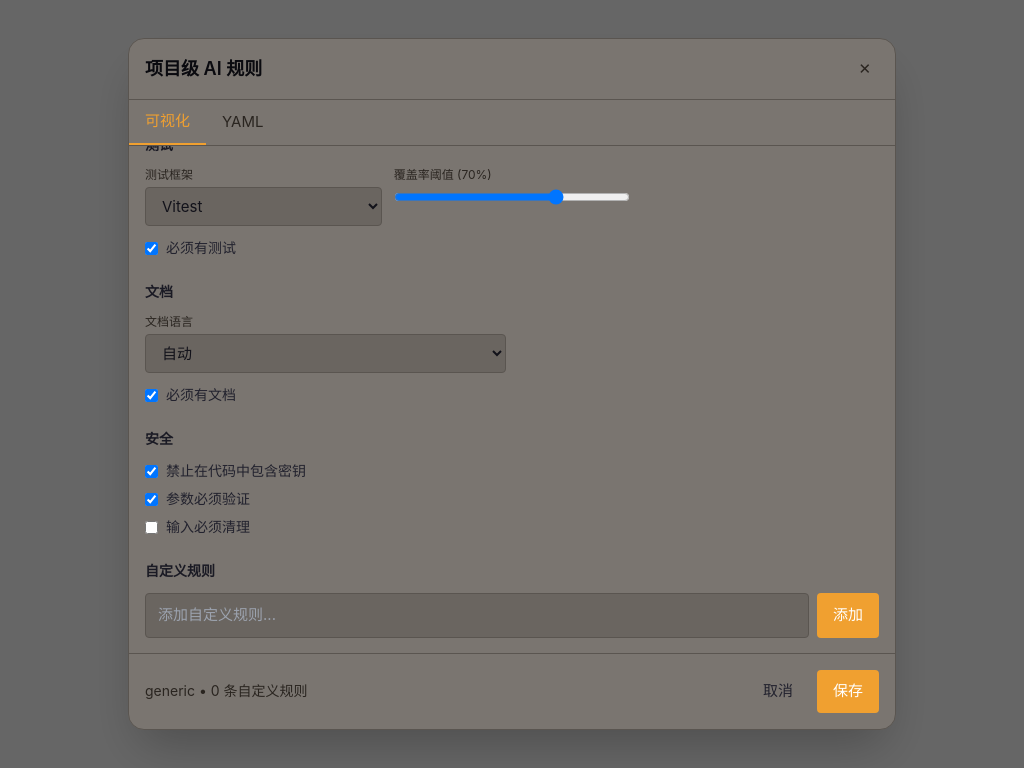
Test case: RulesEditor 组件 (Cycle 18 G18-02) › 应该添加自定义规则
The image size is (1024, 768).
(page scrolled)
Type "新规则 1" into the field with test id "custom-rule-input" at (477, 616), box [145,593,809,638]
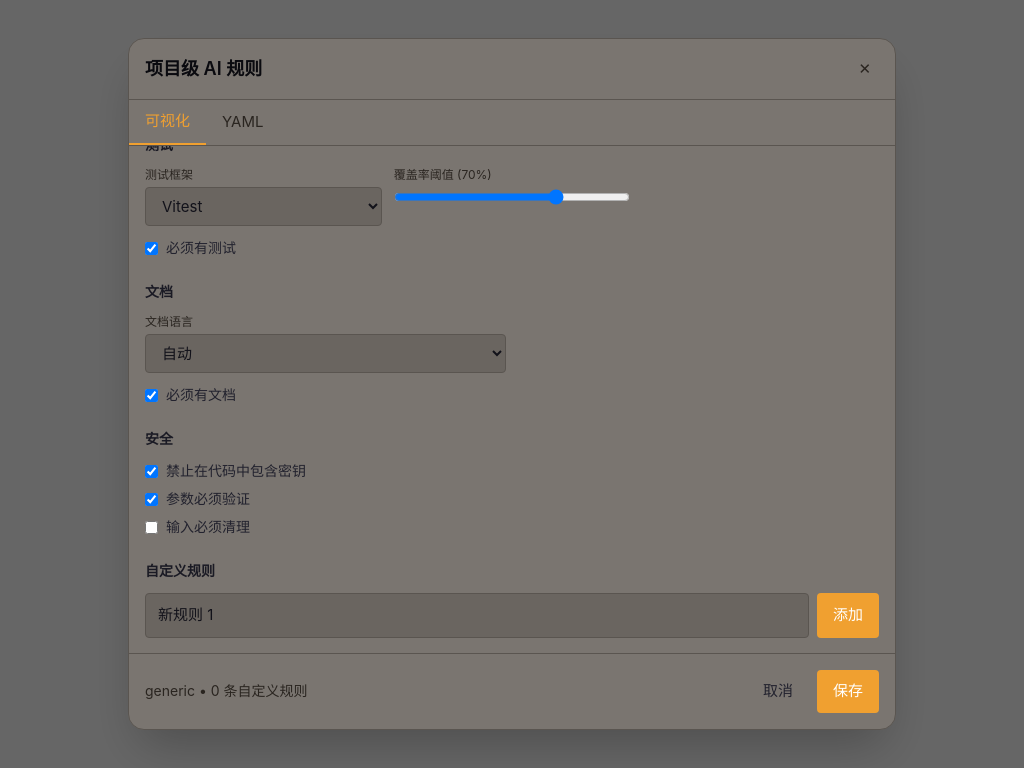
Click the button with test id "custom-rule-add" at (848, 616), box [817,593,879,638]
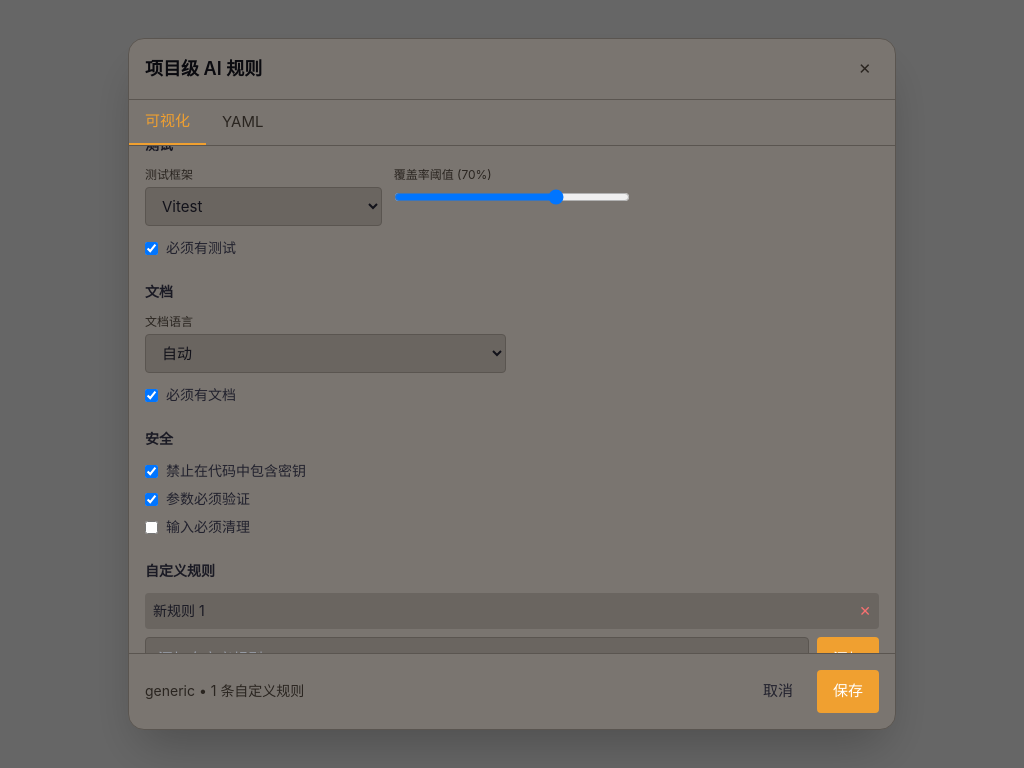
Expected: the text "新规则 1" is shown, [153,601,205,621]
